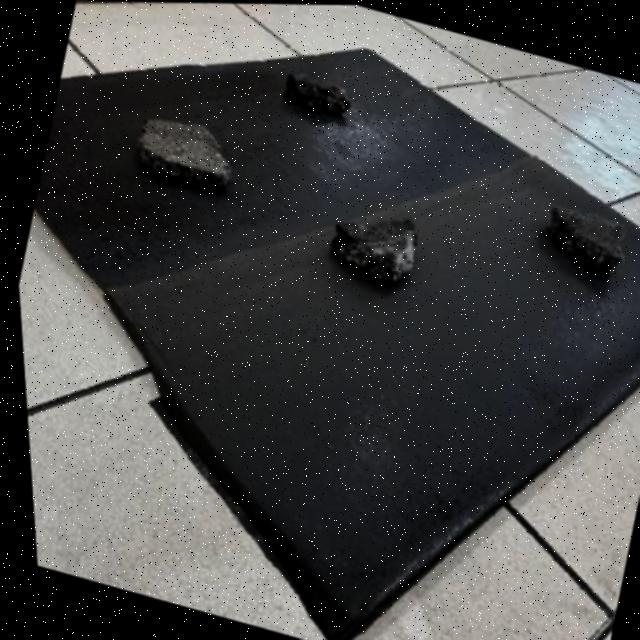Road Debris: (133, 111, 240, 176), (537, 198, 635, 260), (332, 198, 420, 263), (286, 67, 348, 99)
